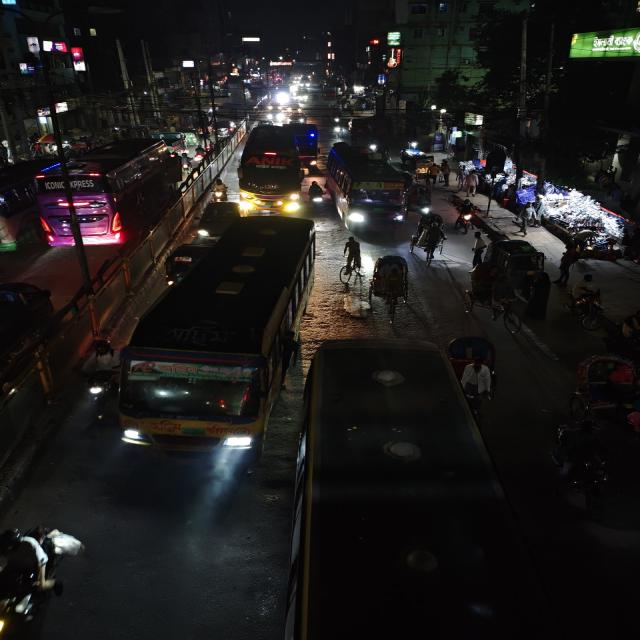bicycle: (565, 272, 612, 331), (332, 235, 365, 288)
bus: (289, 337, 509, 640), (119, 214, 324, 453), (39, 136, 172, 250), (327, 142, 412, 234), (236, 123, 312, 213), (1, 154, 46, 254)
car: (191, 200, 238, 241)
cng: (489, 238, 548, 282), (330, 116, 350, 140)
motorcycle: (0, 518, 68, 640), (545, 419, 619, 509), (566, 273, 613, 330), (84, 342, 114, 419), (451, 196, 478, 234), (306, 177, 327, 209), (210, 177, 229, 202)
pedestrian: (555, 243, 582, 285), (470, 228, 491, 264)
rickshaw: (565, 351, 640, 421), (462, 262, 525, 330), (367, 252, 412, 318), (446, 334, 503, 386), (408, 210, 448, 269)
truck: (293, 122, 322, 170)
